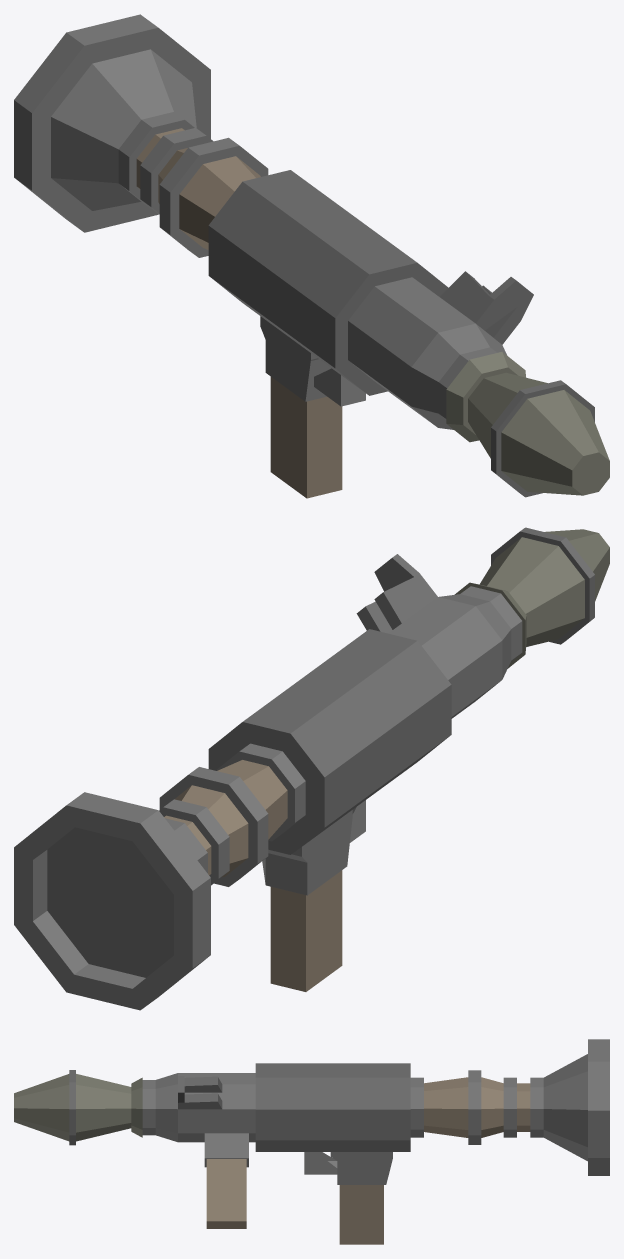
Rendered from rocketlauncherSide.glb.
3 views of the same model, one above another, from view 1: azimuth 30°, elevation 25°; view 2: azimuth 150°, elevation 25°; view 3: azimuth 270°, elevation 25° (orthographic). The views are drawn at different scales.
Visible parts, largest first — view 1: rocketlauncherSide; view 2: rocketlauncherSide; view 3: rocketlauncherSide.
Boxes of the visible parts, <box> form: rocketlauncherSide: <box>14,14,609,498</box>; rocketlauncherSide: <box>14,527,609,1010</box>; rocketlauncherSide: <box>14,1039,609,1244</box>.
Size of the model in its own units: 0.0432 by 0.0564 by 0.1614.
